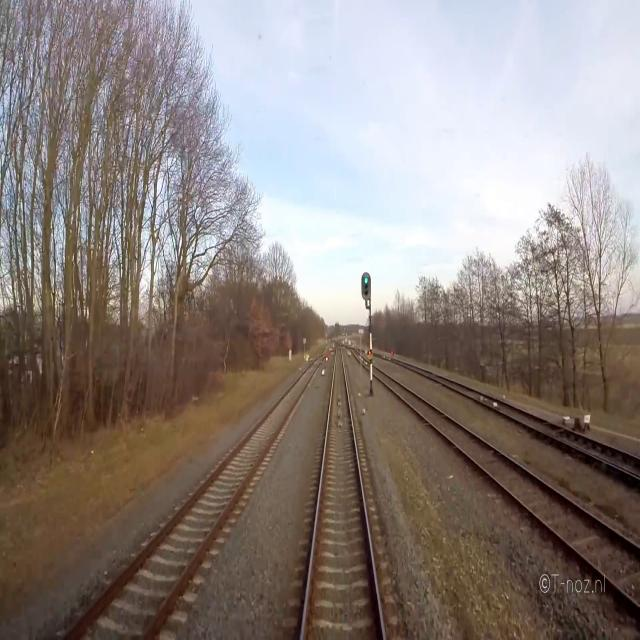rail-track: (69, 360, 318, 639), (373, 368, 640, 600), (304, 346, 381, 639), (468, 392, 640, 469)
